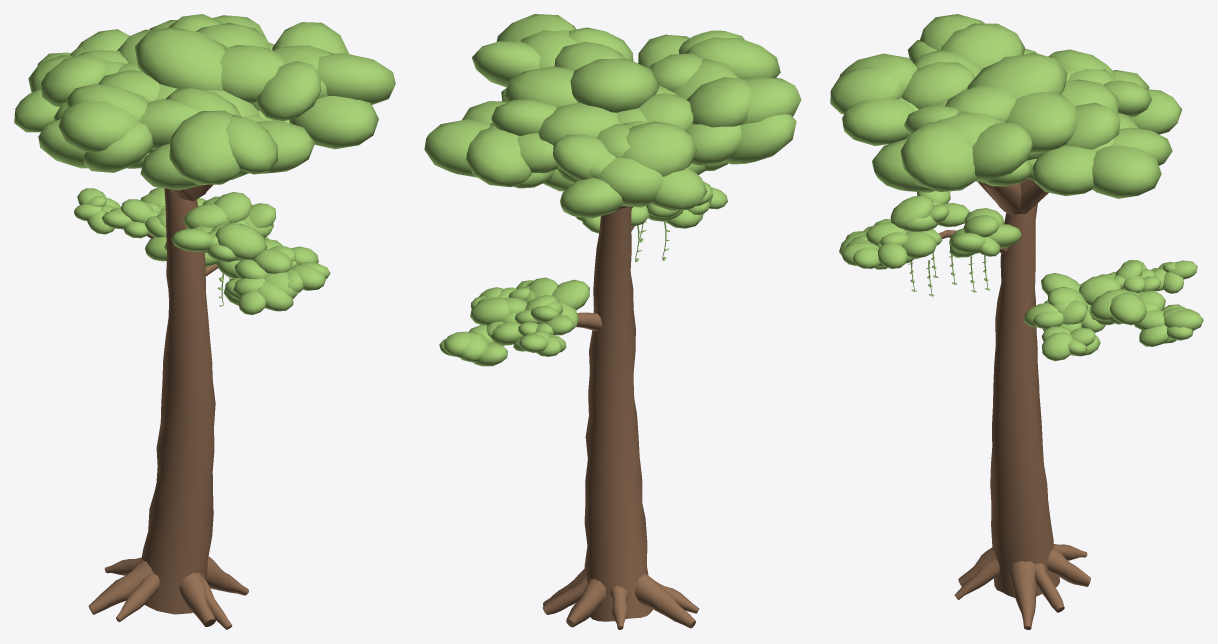
File: SM_FirstSteps_Tree_06.glb
The picture shows the model from 3 angles, left to right: view 1: azimuth 30°, elevation 25°; view 2: azimuth 150°, elevation 25°; view 3: azimuth 270°, elevation 25°; orthographic projection. The views are drawn at different scales.
Parts seen in each view (by area): view 1: CrownMesh, Trunk, BoughMeshB, BoughMeshA; view 2: CrownMesh, Trunk, BoughMeshA, BoughMeshB; view 3: CrownMesh, Trunk, BoughMeshA, BoughMeshB.
Part boxes in pixels (x1,y1,x2,y2): CrownMesh: [14, 14, 395, 201]; Trunk: [88, 188, 248, 629]; BoughMeshB: [171, 192, 330, 315]; BoughMeshA: [74, 187, 269, 276]; CrownMesh: [424, 14, 801, 218]; Trunk: [542, 206, 699, 629]; BoughMeshA: [439, 277, 602, 366]; BoughMeshB: [575, 181, 727, 261]; CrownMesh: [830, 14, 1182, 215]; Trunk: [954, 203, 1090, 629]; BoughMeshA: [1024, 260, 1203, 361]; BoughMeshB: [839, 191, 1021, 296].
Size of the model in its own units: 33.86 by 57.47 by 36.04.
